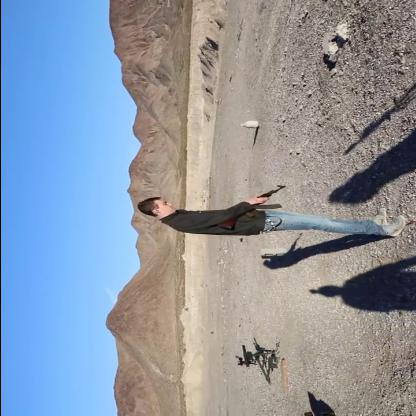long weapon: (212, 182, 288, 230), (222, 340, 276, 380)
